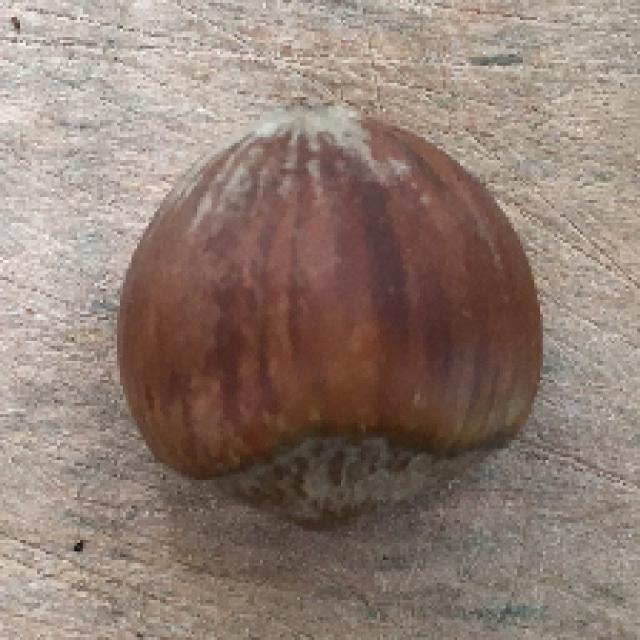qualityHazelnut: (119, 106, 544, 519)
